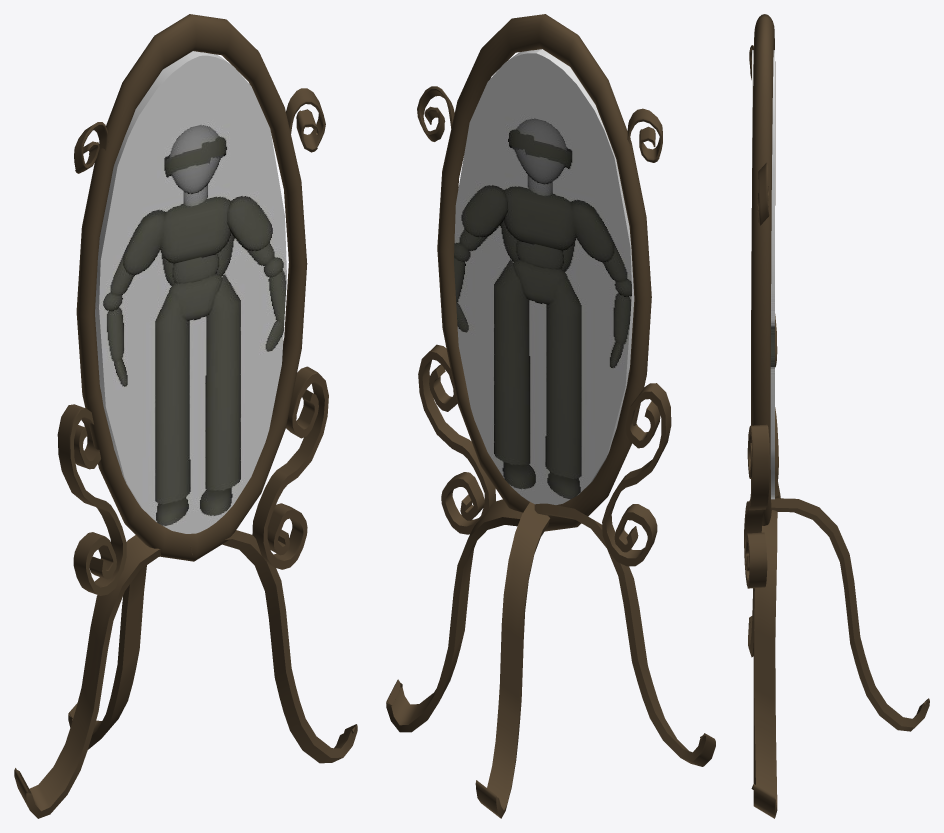
Rendered from thief mirror reflection.fbx.
The picture shows the model from 3 angles, left to right: view 1: azimuth 30°, elevation 25°; view 2: azimuth 150°, elevation 25°; view 3: azimuth 270°, elevation 25°; orthographic projection. The views are drawn at different scales.
Parts seen in each view (by area): view 1: polySurface6, polySurface10, polySurface2, polySurface4, polySurface5, polySurface9, polySurface1, polySurface3, polySurface8; view 2: polySurface6, polySurface10, polySurface1, polySurface4, polySurface5, polySurface9, polySurface2, polySurface8, polySurface3; view 3: polySurface10, polySurface9, polySurface1, polySurface4, polySurface6, polySurface3, polySurface2.
Boxes of the visible parts, x1,y1,x2,y2 form: polySurface6: (95,51,286,533); polySurface10: (76,14,307,561); polySurface2: (14,535,162,818); polySurface4: (252,366,328,569); polySurface5: (57,404,126,595); polySurface9: (222,530,357,763); polySurface1: (68,546,192,749); polySurface3: (286,88,325,152); polySurface8: (74,122,108,173); polySurface6: (454,49,634,504); polySurface10: (437,14,651,531); polySurface1: (475,502,550,818); polySurface4: (418,344,495,534); polySurface5: (602,383,671,566); polySurface9: (386,499,522,732); polySurface2: (534,503,715,766); polySurface8: (627,108,662,162); polySurface3: (417,86,454,141); polySurface10: (751,14,775,525); polySurface9: (751,510,777,818); polySurface1: (771,498,929,731); polySurface4: (744,424,769,588); polySurface6: (752,50,774,499); polySurface3: (757,162,769,225); polySurface2: (748,473,780,657).
Bounding box in the file's own units: 5.61 × 12.63 × 2.9.
